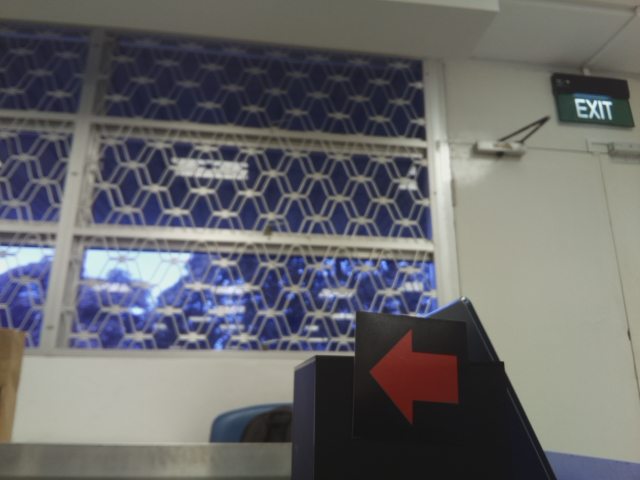left: (363, 322, 463, 427)
